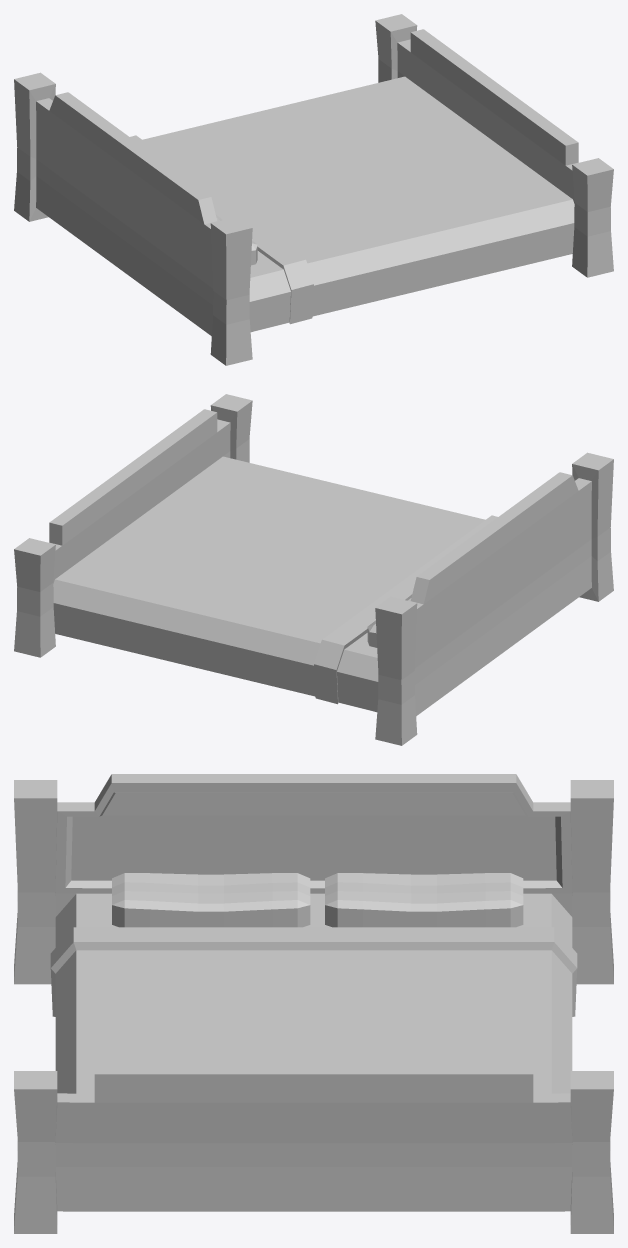
Rendered from BedKing.glb.
The picture shows the model from 3 angles, top to bottom: view 1: azimuth 30°, elevation 25°; view 2: azimuth 150°, elevation 25°; view 3: azimuth 270°, elevation 25°; orthographic projection. The views are drawn at different scales.
Visible parts, largest first — view 1: BedKing; view 2: BedKing; view 3: BedKing.
Part boxes in pixels (x1,y1,x2,y2): BedKing: [14, 14, 613, 365]; BedKing: [14, 394, 613, 745]; BedKing: [14, 774, 613, 1233].
Bounding box in the file's own units: 1.43 × 0.4898 × 1.35.
Materials: 4 (4 with a texture image).
